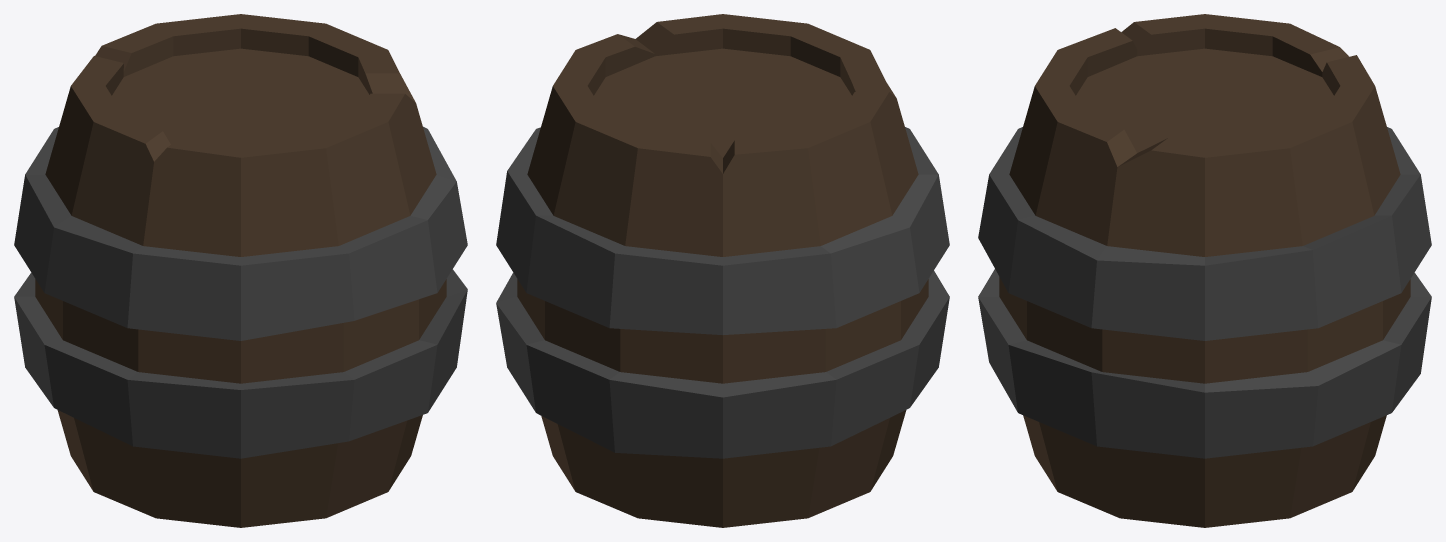
The model's file is Barrel.fbx.
The picture shows the model from 3 angles, left to right: view 1: azimuth 30°, elevation 25°; view 2: azimuth 150°, elevation 25°; view 3: azimuth 270°, elevation 25°; orthographic projection.
Parts seen in each view (by area): view 1: Cylinder; view 2: Cylinder; view 3: Cylinder.
Boxes of the visible parts, box(x1,y1,x2,y2) form: Cylinder: box(14, 14, 467, 527); Cylinder: box(496, 14, 949, 527); Cylinder: box(978, 14, 1431, 527).
Size of the model in its own units: 133 by 120 by 133.
